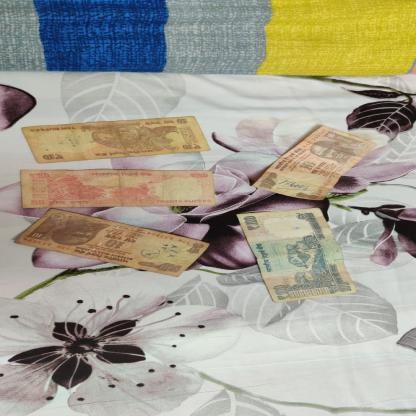Old100Back: (235, 207, 357, 303)
Old10Back: (21, 116, 211, 164)
Old10Front: (12, 207, 211, 277), (251, 124, 380, 200)
Old20Back: (20, 169, 216, 208)
